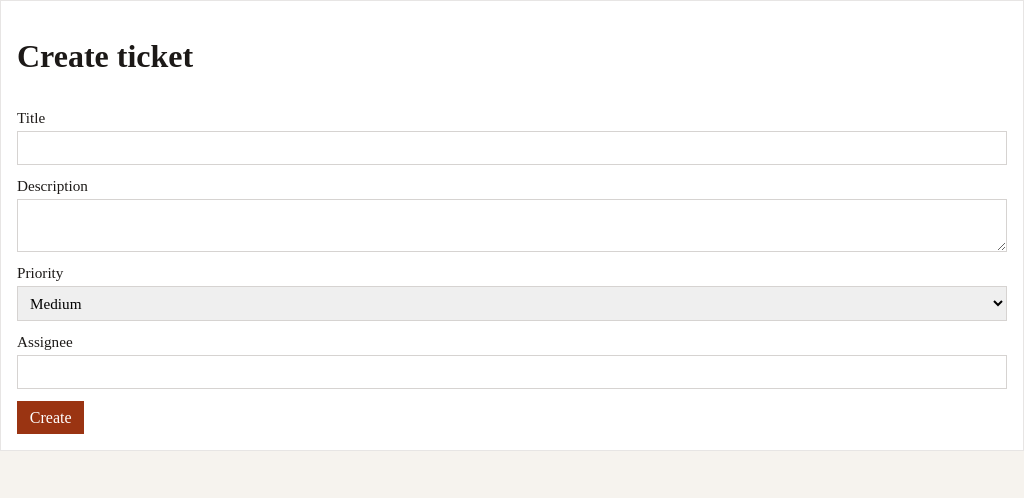
Test: create ticket › shows Title is required
Type "Jam" into the text box labelled "Description" at (512, 226), box [17, 199, 1007, 252]
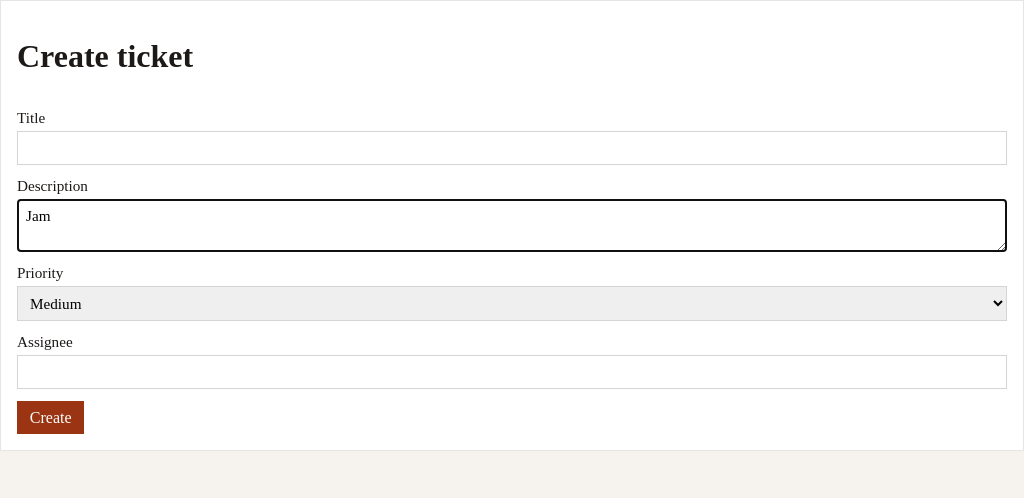
Click the button "Create" at (51, 418), box [17, 401, 84, 434]
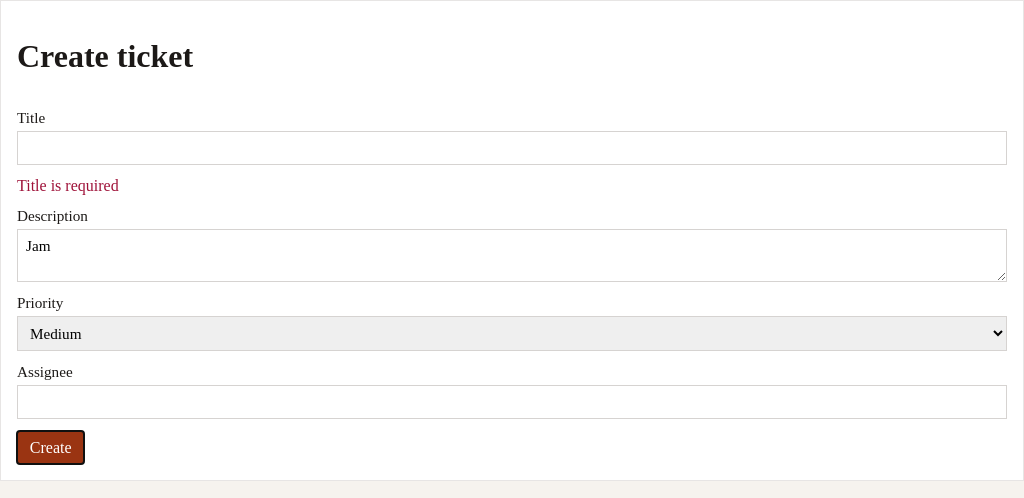
Now the text "Title is required" is shown, box [17, 177, 119, 194]
